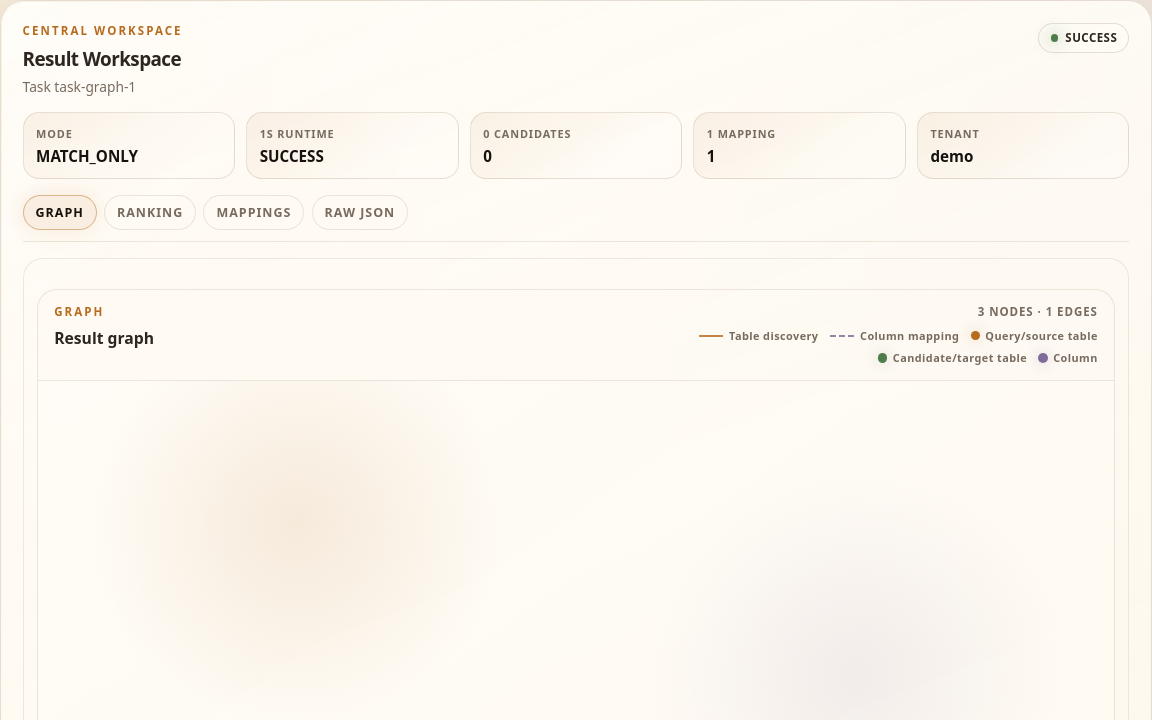
Test: ResultWorkspace › explains why match-only tasks have no ranking rows
The image size is (1152, 720).
Click the tab "Ranking": click(150, 213) 104,195 -> 196,230
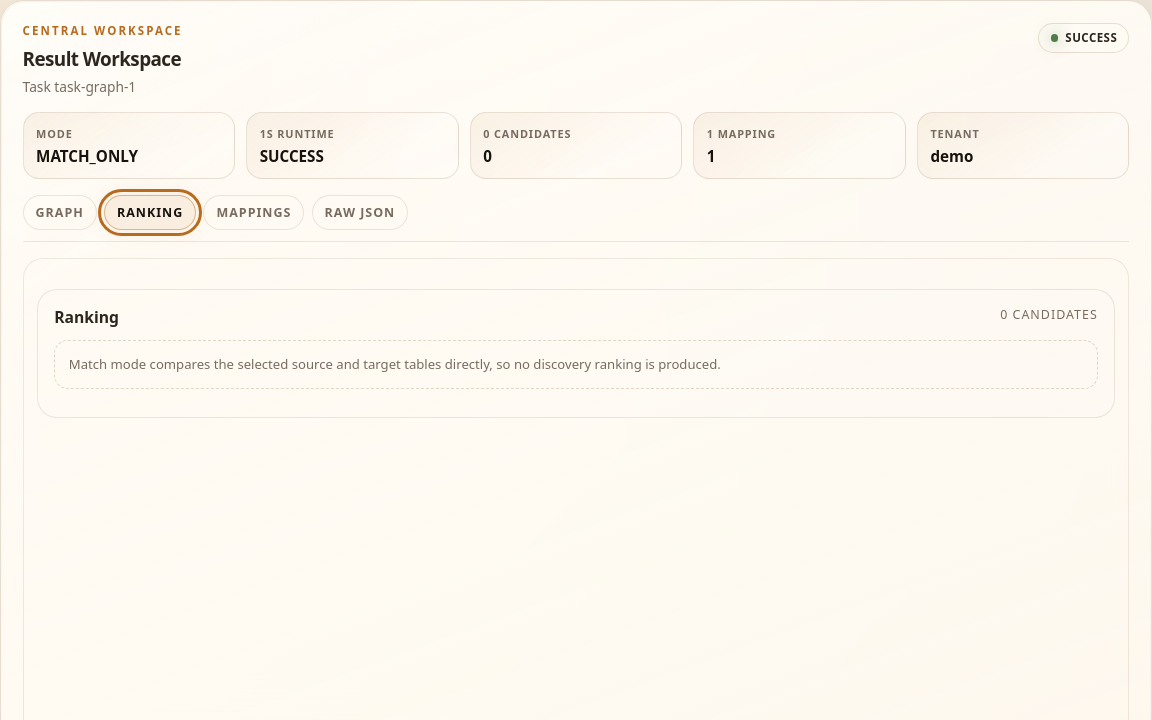
Now the text "Match mode compares the selected source and target tables directly, so no discovery ranking is produced." is shown, box 69,355 -> 721,373
